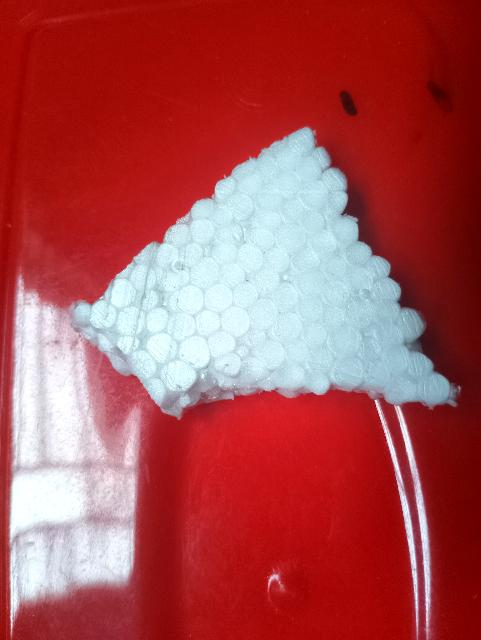cocksheet: (104, 141, 444, 452)
